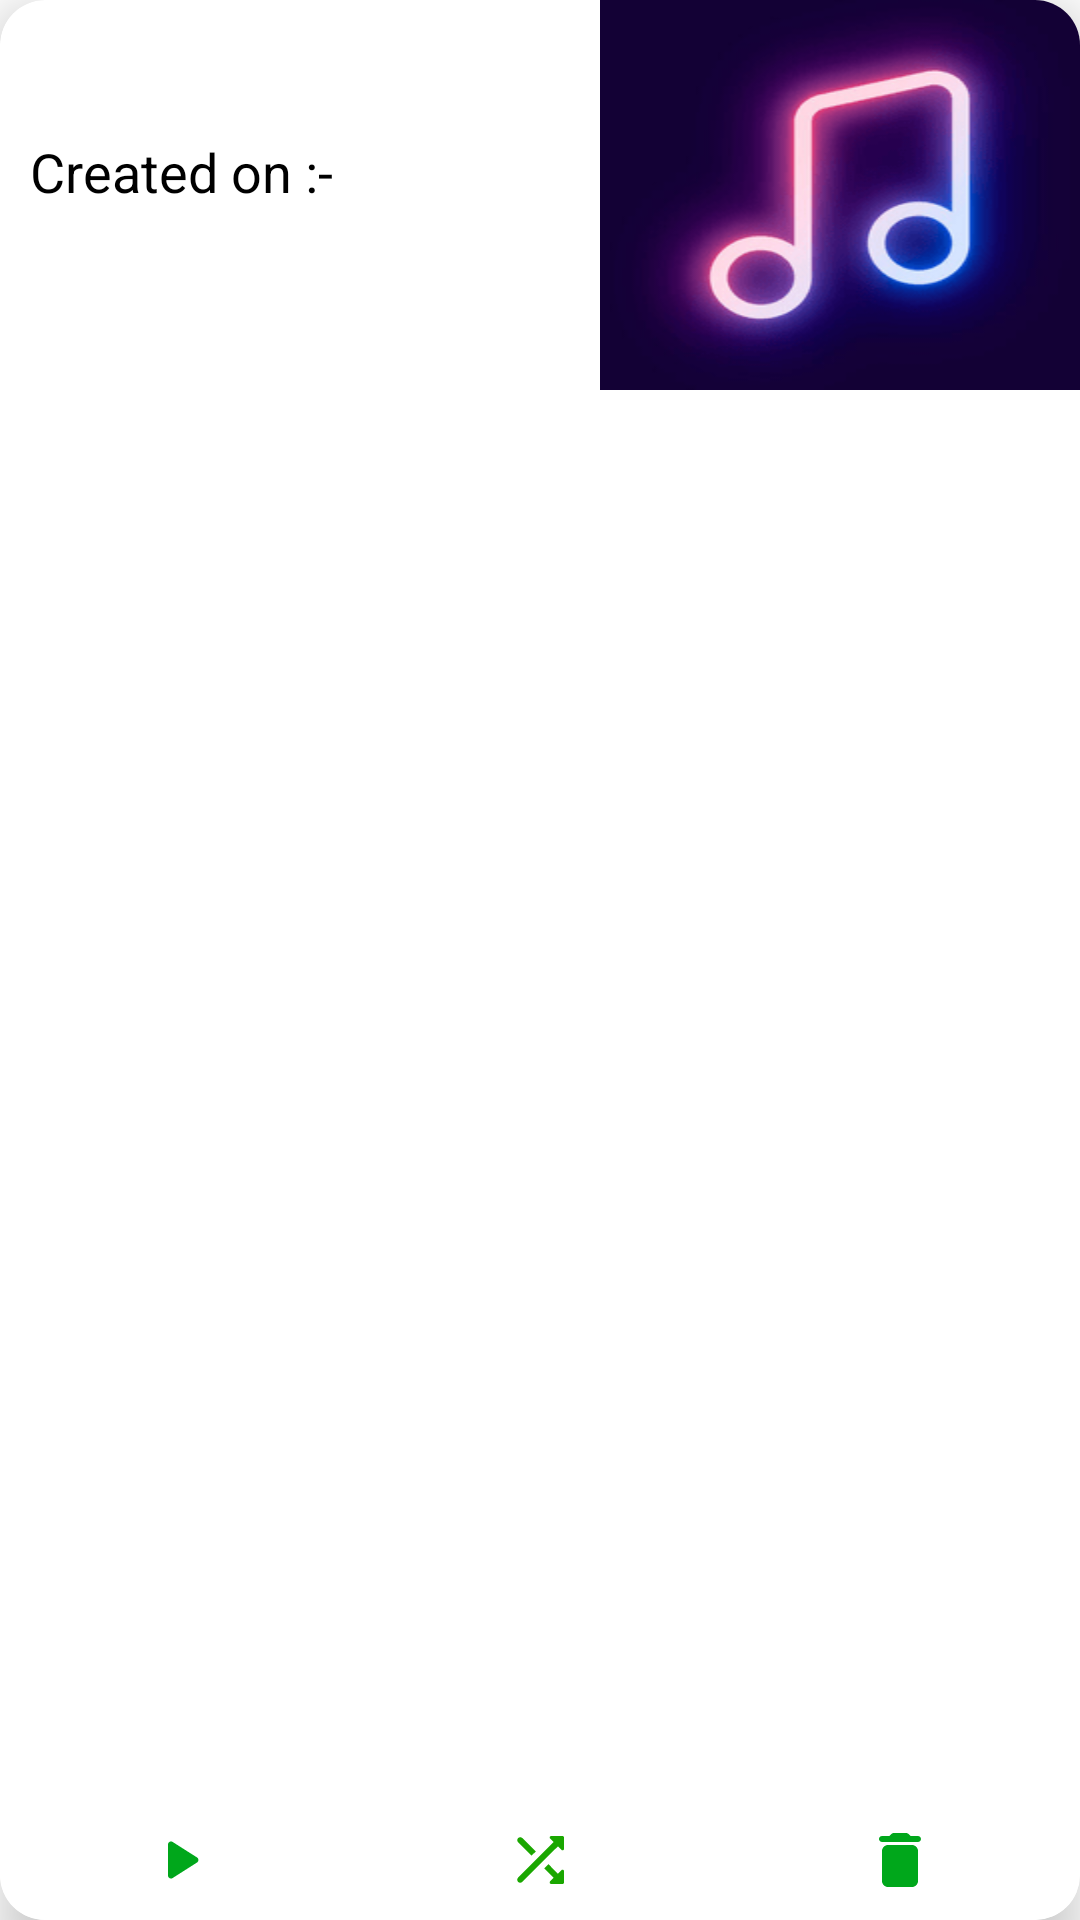

Point at icon controls on the screen. Image size 1080×1920, points as (x=x, y=y).
greenshuffle: (x=540, y=1860)
